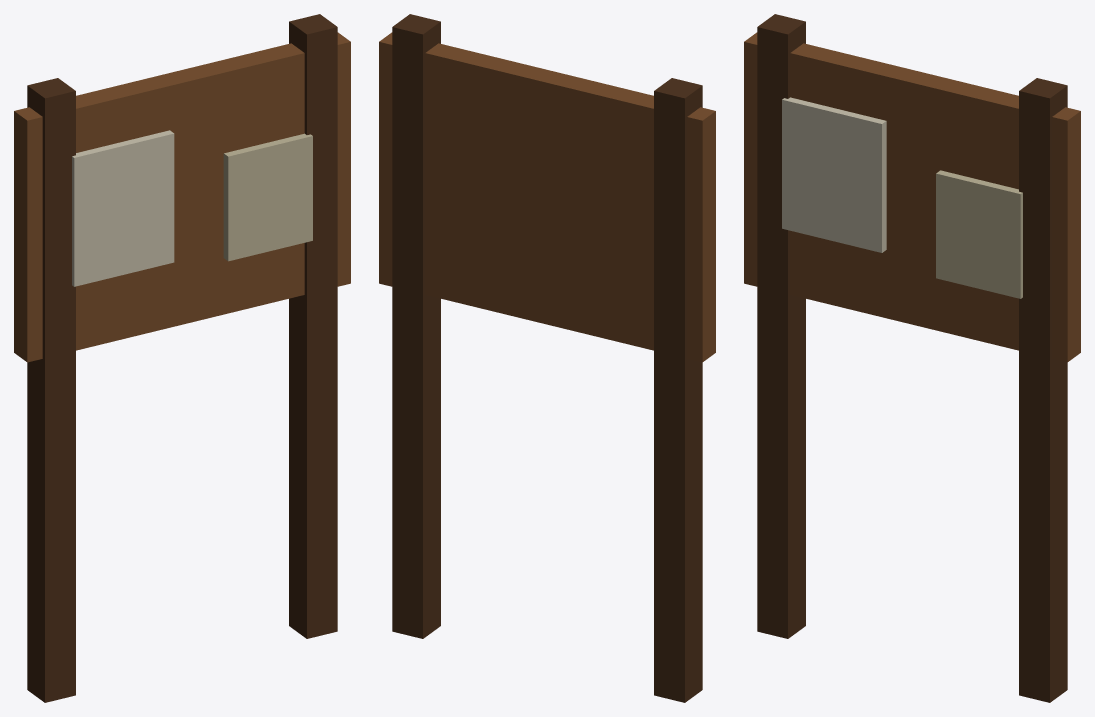
Rendered from noticeboard.b002d876.glb.
3 renders of one model, left to right at view 1: azimuth 30°, elevation 25°; view 2: azimuth 150°, elevation 25°; view 3: azimuth 330°, elevation 25°, orthographic.
Visible parts, largest first — view 1: body; view 2: body; view 3: body.
Part boxes in pixels (x1,y1,x2,y2): body: [14, 14, 350, 702]; body: [379, 14, 715, 702]; body: [744, 14, 1080, 702].
Bounding box in the file's own units: 0.84 × 1.5 × 0.09.
